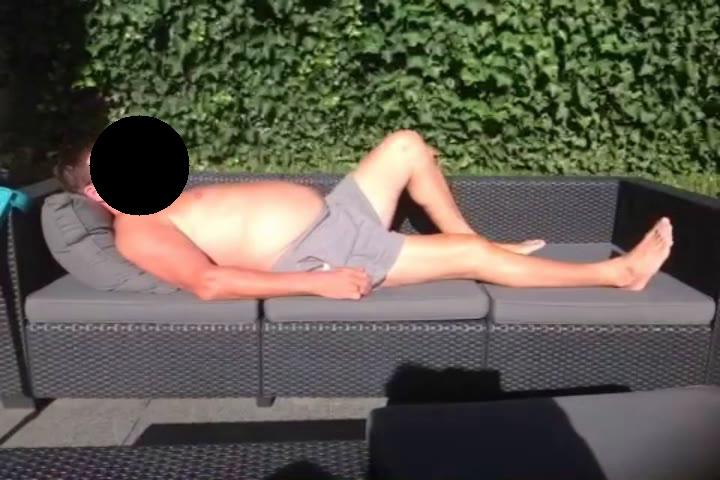lower_body: (307, 130, 677, 296)
